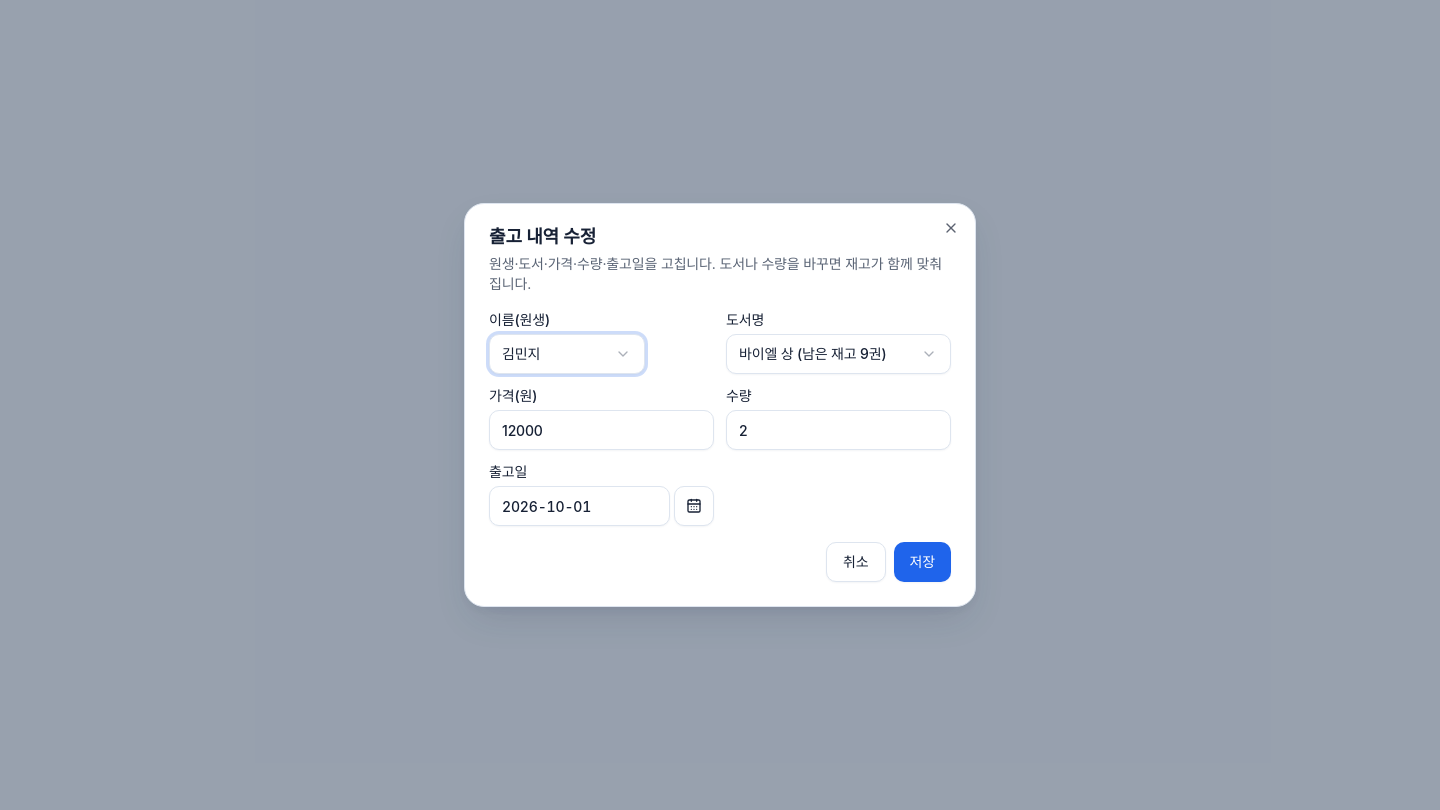
Test case: BookShipmentEditDialog › 같은 도서에서 수량만 바꿀 때는 현재 재고에 기존 수량을 더한 만큼까지 허용한다
Step 1. Replace the text in the number field labelled "수량" with "11" → (838, 430), box [726,410,951,450]
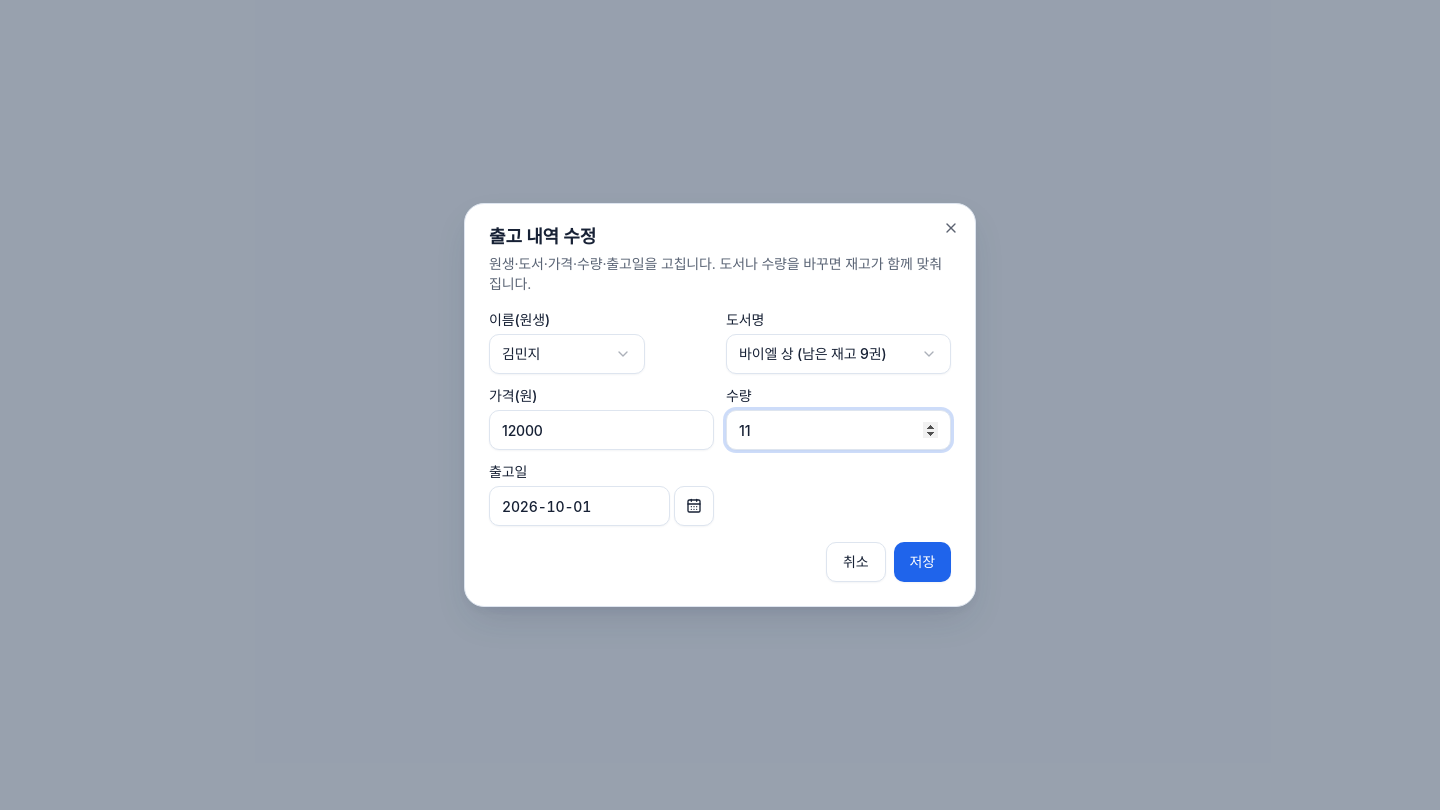
Expected: the button "저장" is enabled, [894,542,951,582]
Step 2. Replace the text in the number field labelled "수량" with "12" → (838, 430), box [726,410,951,450]
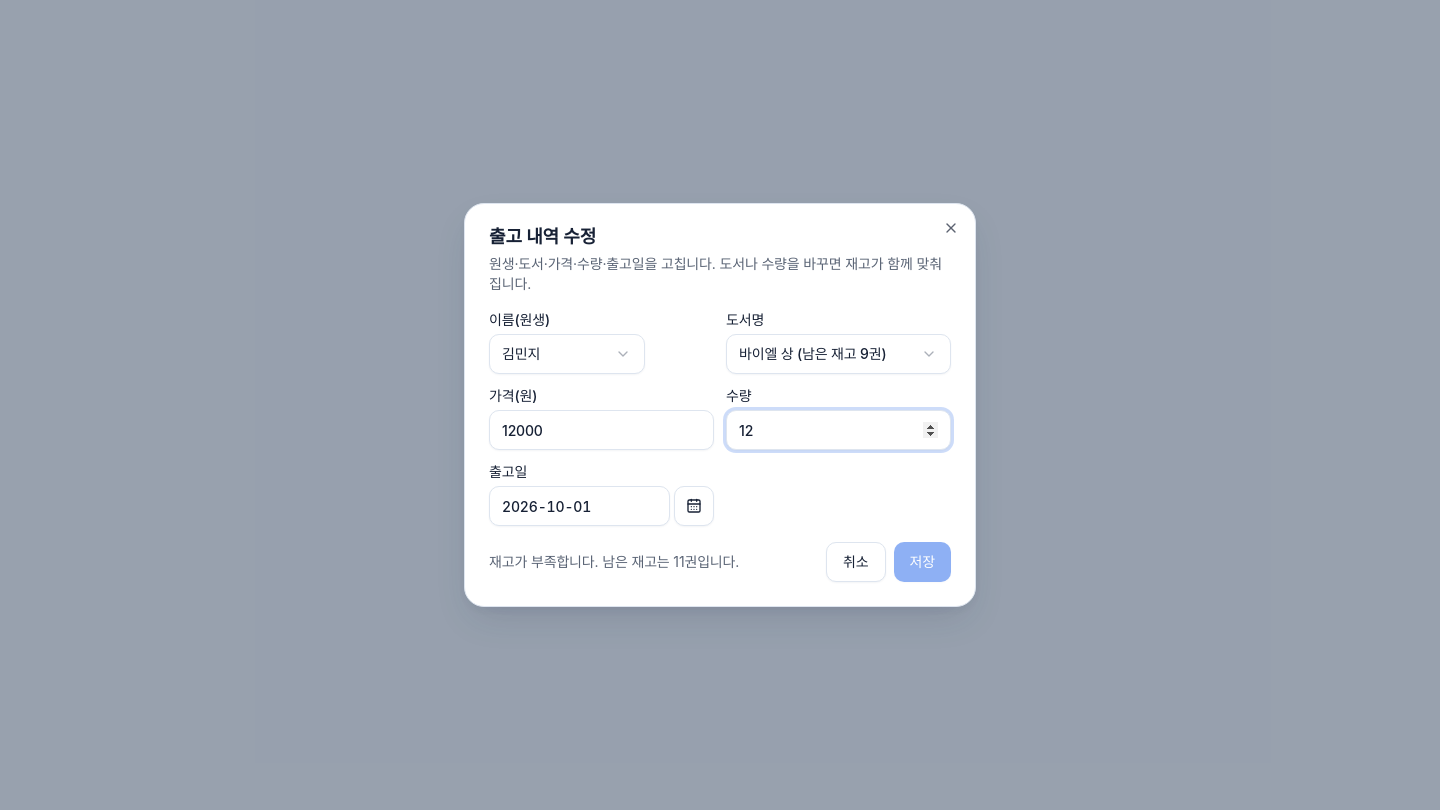
Now the button "저장" is disabled, box [894,542,951,582]
Now the text "재고가 부족합니다. 남은 재고는 11권입니다." is shown, box [489,552,739,572]
